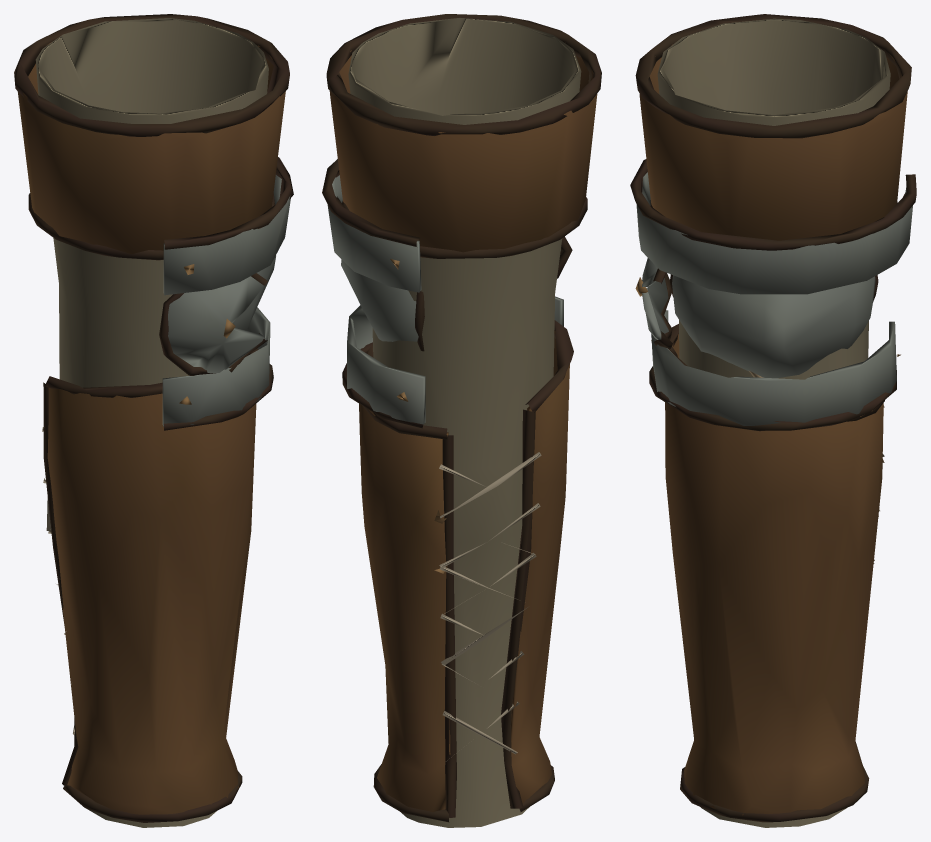
The picture shows the model from 3 angles, left to right: view 1: azimuth 30°, elevation 25°; view 2: azimuth 150°, elevation 25°; view 3: azimuth 270°, elevation 25°; orthographic projection.
Parts seen in each view (by area): view 1: tanned leather, aged alloy edge; view 2: tanned leather, aged alloy edge; view 3: tanned leather, aged alloy edge.
Part boxes in pixels (left/top/right/bottom): tanned leather: left=14, top=14, right=293, bottom=827; aged alloy edge: left=162, top=175, right=290, bottom=426; tanned leather: left=322, top=14, right=601, bottom=827; aged alloy edge: left=327, top=175, right=563, bottom=659; tanned leather: left=630, top=14, right=916, bottom=827; aged alloy edge: left=635, top=172, right=912, bottom=516.
Bounding box in the file's own units: 0.1479 × 0.4258 × 0.1514.
